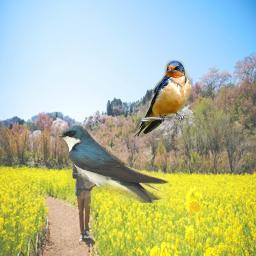Swallow: (58, 124, 169, 203), (133, 60, 192, 138)
